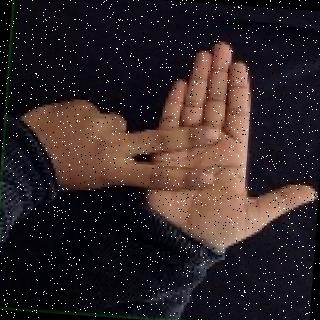N: (11, 29, 320, 269)
